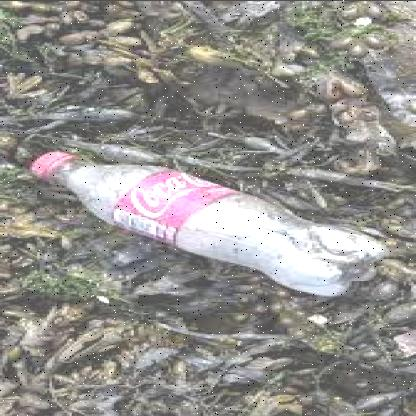Plastic Bottle: (29, 151, 388, 295)
